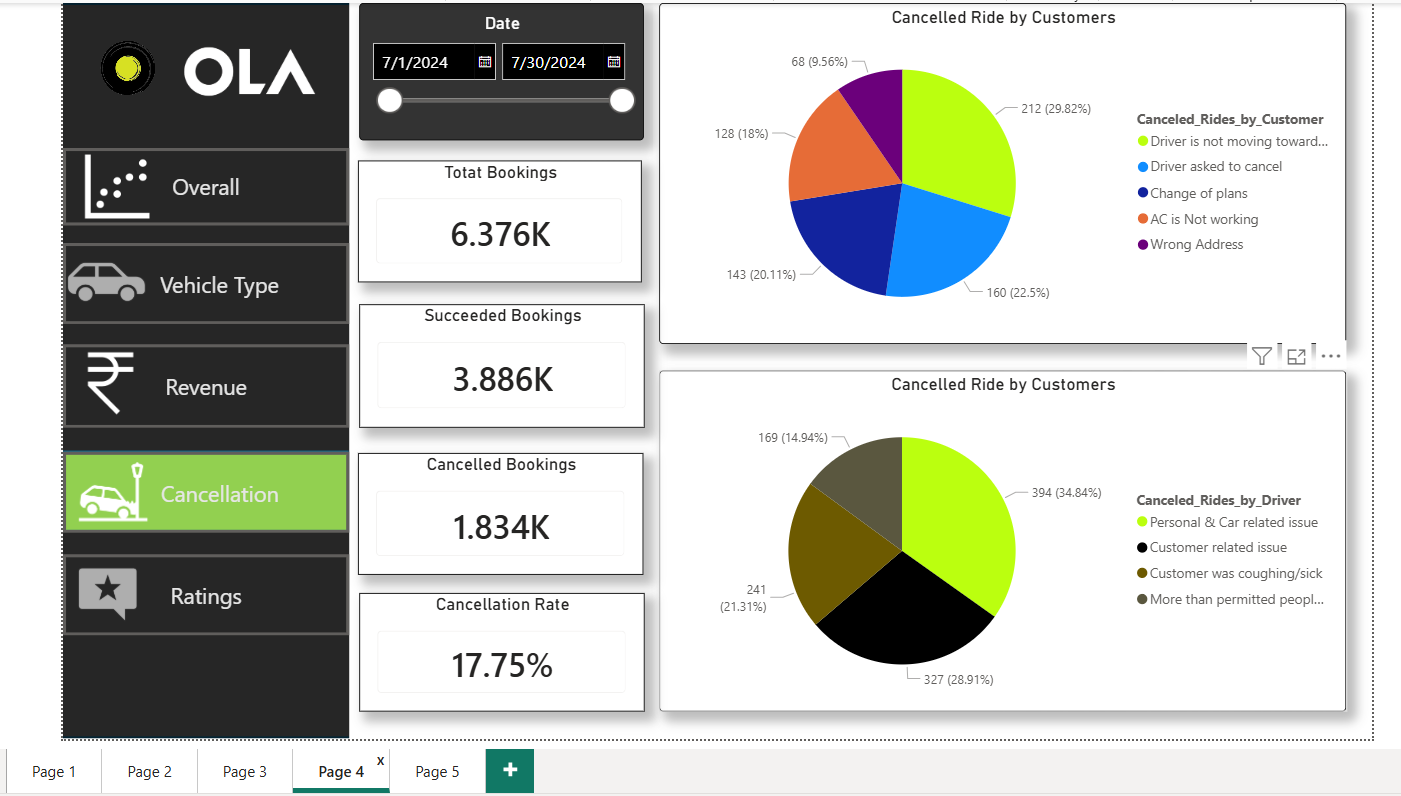

This screenshot's page, from the dashboard's own definition file:
{"tool":"powerbi","page":{"name":"Page 4","canvas":[1280,720],"ordinal":3},"visuals":[{"type":"image","box":[0,0,280,720.2],"z":0},{"type":"image","box":[118.6,33,128.4,68.5],"z":1000},{"type":"image","box":[8.6,17.1,110.1,92.9],"z":2000},{"type":"actionButton","box":[0,141.8,280,75.8],"z":3000},{"type":"image","box":[8.6,141.8,89.3,75.8],"z":4000},{"type":"image","box":[0,437.8,280,79.5],"z":5000},{"type":"image","box":[0,232.3,85.6,81.9],"z":6000},{"type":"actionButton","box":[0,234.8,280,79.5],"z":7000},{"type":"actionButton","box":[0,333.8,280,81.9],"z":8000},{"type":"image","box":[8.6,333.8,77,77],"z":9000},{"type":"actionButton","box":[0,439,280,79.5],"z":10000},{"type":"image","box":[8.6,441.4,81.9,73.4],"z":11000},{"type":"actionButton","box":[0,539.3,280,79.5],"z":12000},{"type":"image","box":[2.4,539.3,83.2,79.5],"z":13000},{"type":"slicer","title":"Date","fields":{"Values":["book.Date"]},"box":[289.5,0,278.6,134.5],"z":14000},{"type":"pieChart","title":"Cancelled Ride by Customers","fields":{"Category":["book.Canceled_Rides_by_Customer"],"Y":["CountNonNull(book.Canceled_Rides_by_Customer)"]},"box":[583.2,0,672.4,333.4],"z":15000},{"type":"pieChart","title":"Cancelled Ride by Customers","fields":{"Category":["book.Canceled_Rides_by_Driver"],"Y":["CountNonNull(book.Canceled_Rides_by_Driver)"]},"box":[583.5,360,672,333.7],"z":16000},{"type":"cardVisual","title":"Totat Bookings","fields":{"Data":["CountNonNull(book.Booking_ID)"]},"box":[288.7,153.6,277.8,119.5],"z":17000},{"type":"cardVisual","title":"Succeeded Bookings","fields":{"Data":["CountNonNull(book.Booking_ID)"]},"box":[290.2,294.9,279.3,121],"z":18000},{"type":"cardVisual","title":"Cancelled Bookings","fields":{"Data":["CountNonNull(book.Booking_ID)"]},"box":[288.7,440.7,279.3,119.5],"z":19000},{"type":"cardVisual","title":"Cancellation Rate","fields":{"Data":["book.CanceledPercentage"]},"box":[290.2,577.3,279.3,116.4],"z":20000}]}

Visuals, with their boxes on the page's 1280x720 design canvas (x1, y1, x2, y2). These are canvas units, not pixel positions in the 1401x796 screenshot, which may show the page scaled, cropped or inside an application window:
image: <box>0,0,280,720</box>
image: <box>119,33,247,102</box>
image: <box>9,17,119,110</box>
actionButton: <box>0,142,280,218</box>
image: <box>9,142,98,218</box>
image: <box>0,438,280,517</box>
image: <box>0,232,86,314</box>
actionButton: <box>0,235,280,314</box>
actionButton: <box>0,334,280,416</box>
image: <box>9,334,86,411</box>
actionButton: <box>0,439,280,518</box>
image: <box>9,441,90,515</box>
actionButton: <box>0,539,280,619</box>
image: <box>2,539,86,619</box>
"Date" slicer: <box>290,0,568,134</box>
"Cancelled Ride by Customers" pieChart: <box>583,0,1256,333</box>
"Cancelled Ride by Customers" pieChart: <box>584,360,1256,694</box>
"Totat Bookings" cardVisual: <box>289,154,566,273</box>
"Succeeded Bookings" cardVisual: <box>290,295,570,416</box>
"Cancelled Bookings" cardVisual: <box>289,441,568,560</box>
"Cancellation Rate" cardVisual: <box>290,577,570,694</box>
